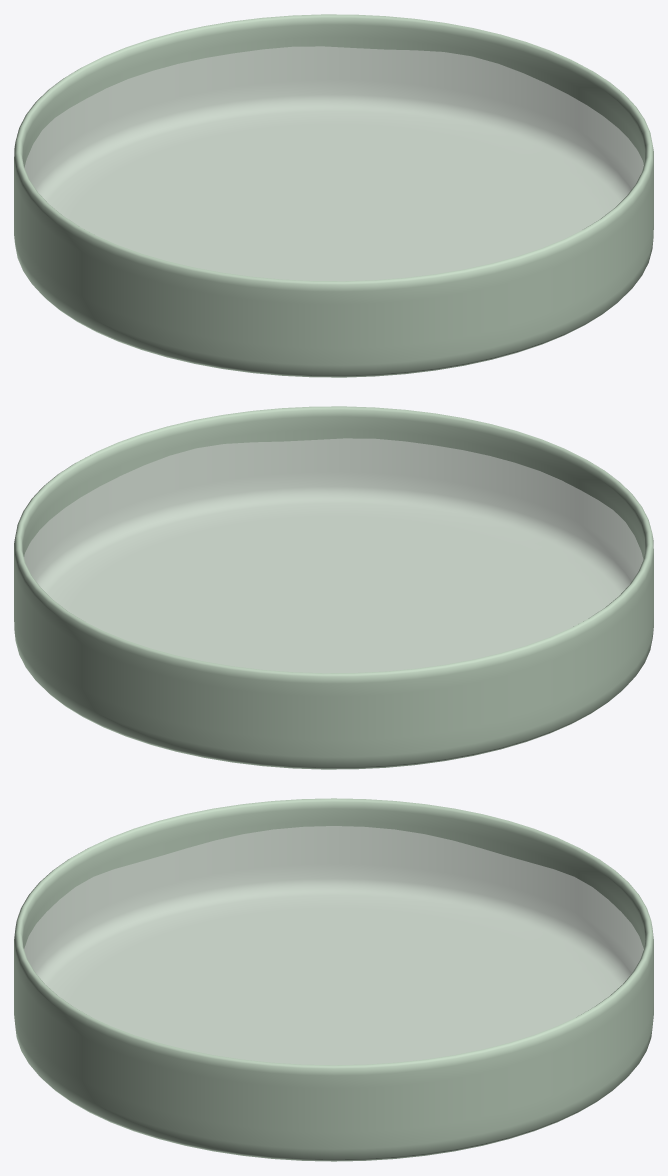
The model's file is petri plates.fbx.
The picture shows the model from 3 angles, top to bottom: view 1: azimuth 30°, elevation 25°; view 2: azimuth 150°, elevation 25°; view 3: azimuth 270°, elevation 25°; orthographic projection.
Parts seen in each view (by area): view 1: Tube001, water001; view 2: Tube001, water001; view 3: Tube001, water001.
Boxes of the visible parts, x1,y1,x2,y2 form: Tube001: (14,14,653,377); water001: (24,46,643,280); Tube001: (14,406,653,769); water001: (24,438,643,672); Tube001: (14,798,653,1161); water001: (24,826,643,1064).
Bounding box in the file's own units: 222 × 36.84 × 222.
